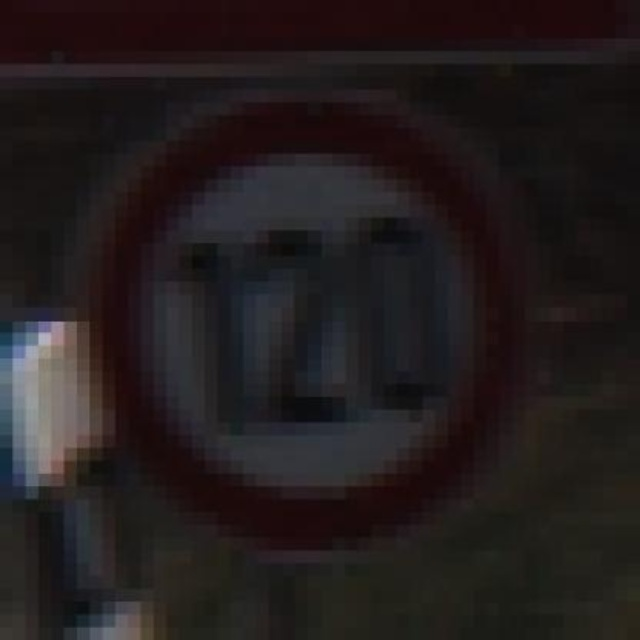Tốc độ tối đa cho phép 120km/h: (97, 99, 515, 552)
